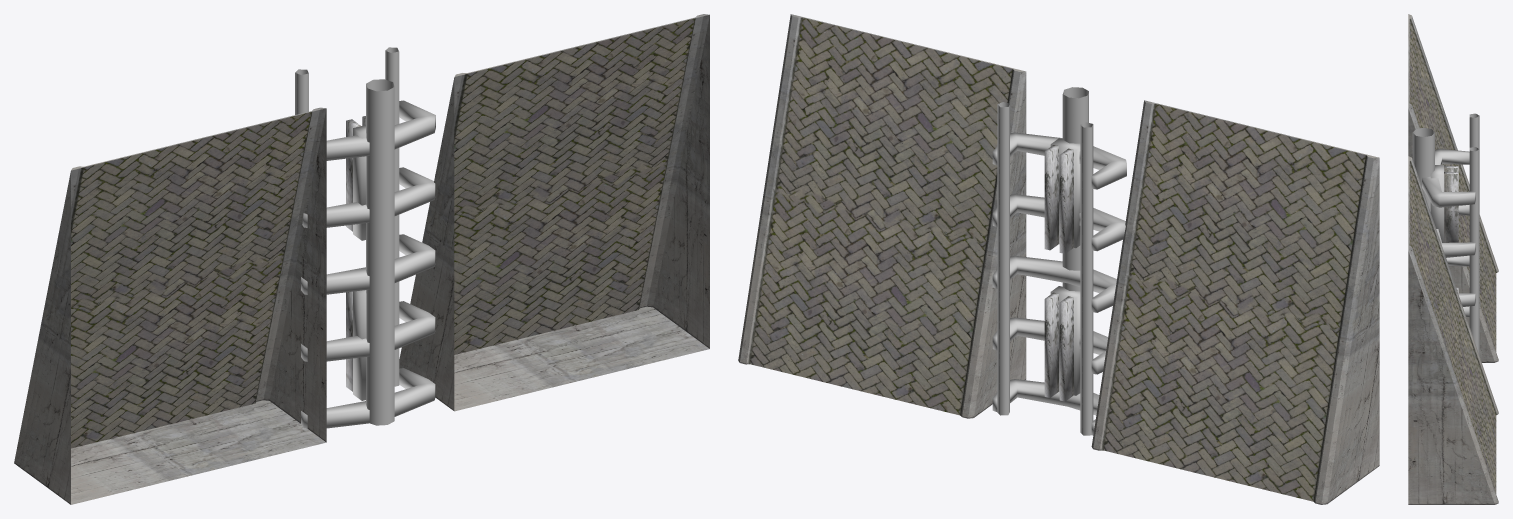
File: steel 1 station end.fbx
3 views of the same model, side by side, from view 1: azimuth 30°, elevation 25°; view 2: azimuth 150°, elevation 25°; view 3: azimuth 270°, elevation 25° (orthographic). The views are drawn at different scales.
Parts seen in each view (by area): view 1: Cube_001; view 2: Cube_001; view 3: Cube_001.
Part boxes in pixels (bbox=[...]): Cube_001: bbox=[14, 14, 709, 504]; Cube_001: bbox=[738, 14, 1379, 504]; Cube_001: bbox=[1408, 14, 1498, 504].
Size of the model in its own units: 10 by 5 by 1.61.
